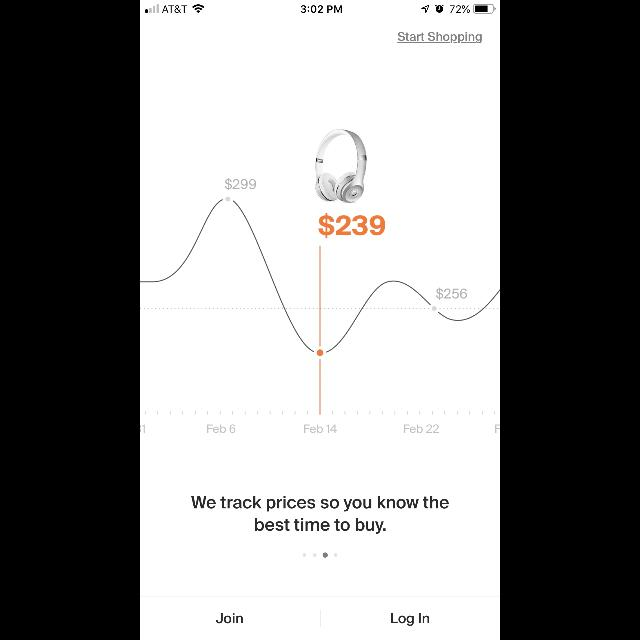image: (140, 129, 500, 433)
pageindicator: (302, 552, 338, 558)
text: (192, 496, 448, 534), (398, 32, 482, 44)
textbutton: (320, 596, 500, 640), (140, 596, 320, 640)
uppertaskbar: (140, 0, 500, 14)
